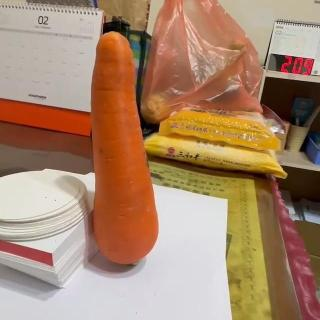carrot: (90, 31, 158, 265)
